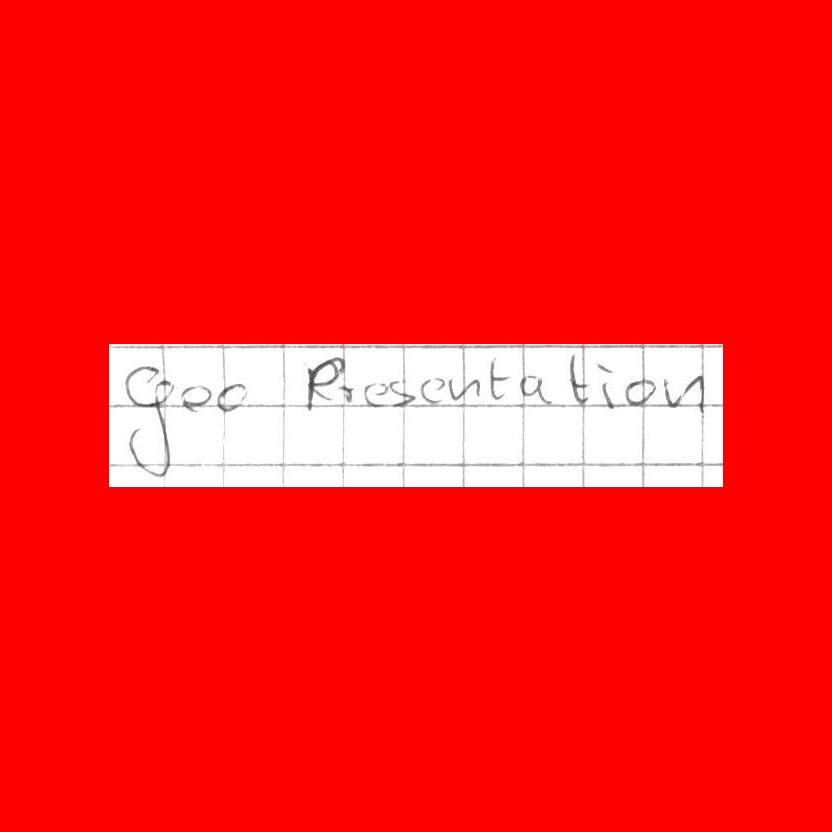Char: (118, 360, 176, 479), (302, 351, 343, 415), (660, 373, 706, 412), (564, 347, 590, 406), (486, 351, 512, 406), (516, 373, 556, 406), (215, 379, 251, 414), (178, 381, 214, 415), (594, 359, 616, 410), (446, 372, 481, 402), (622, 376, 657, 403), (390, 374, 416, 410), (360, 377, 390, 408), (420, 374, 446, 406), (336, 375, 355, 407)
